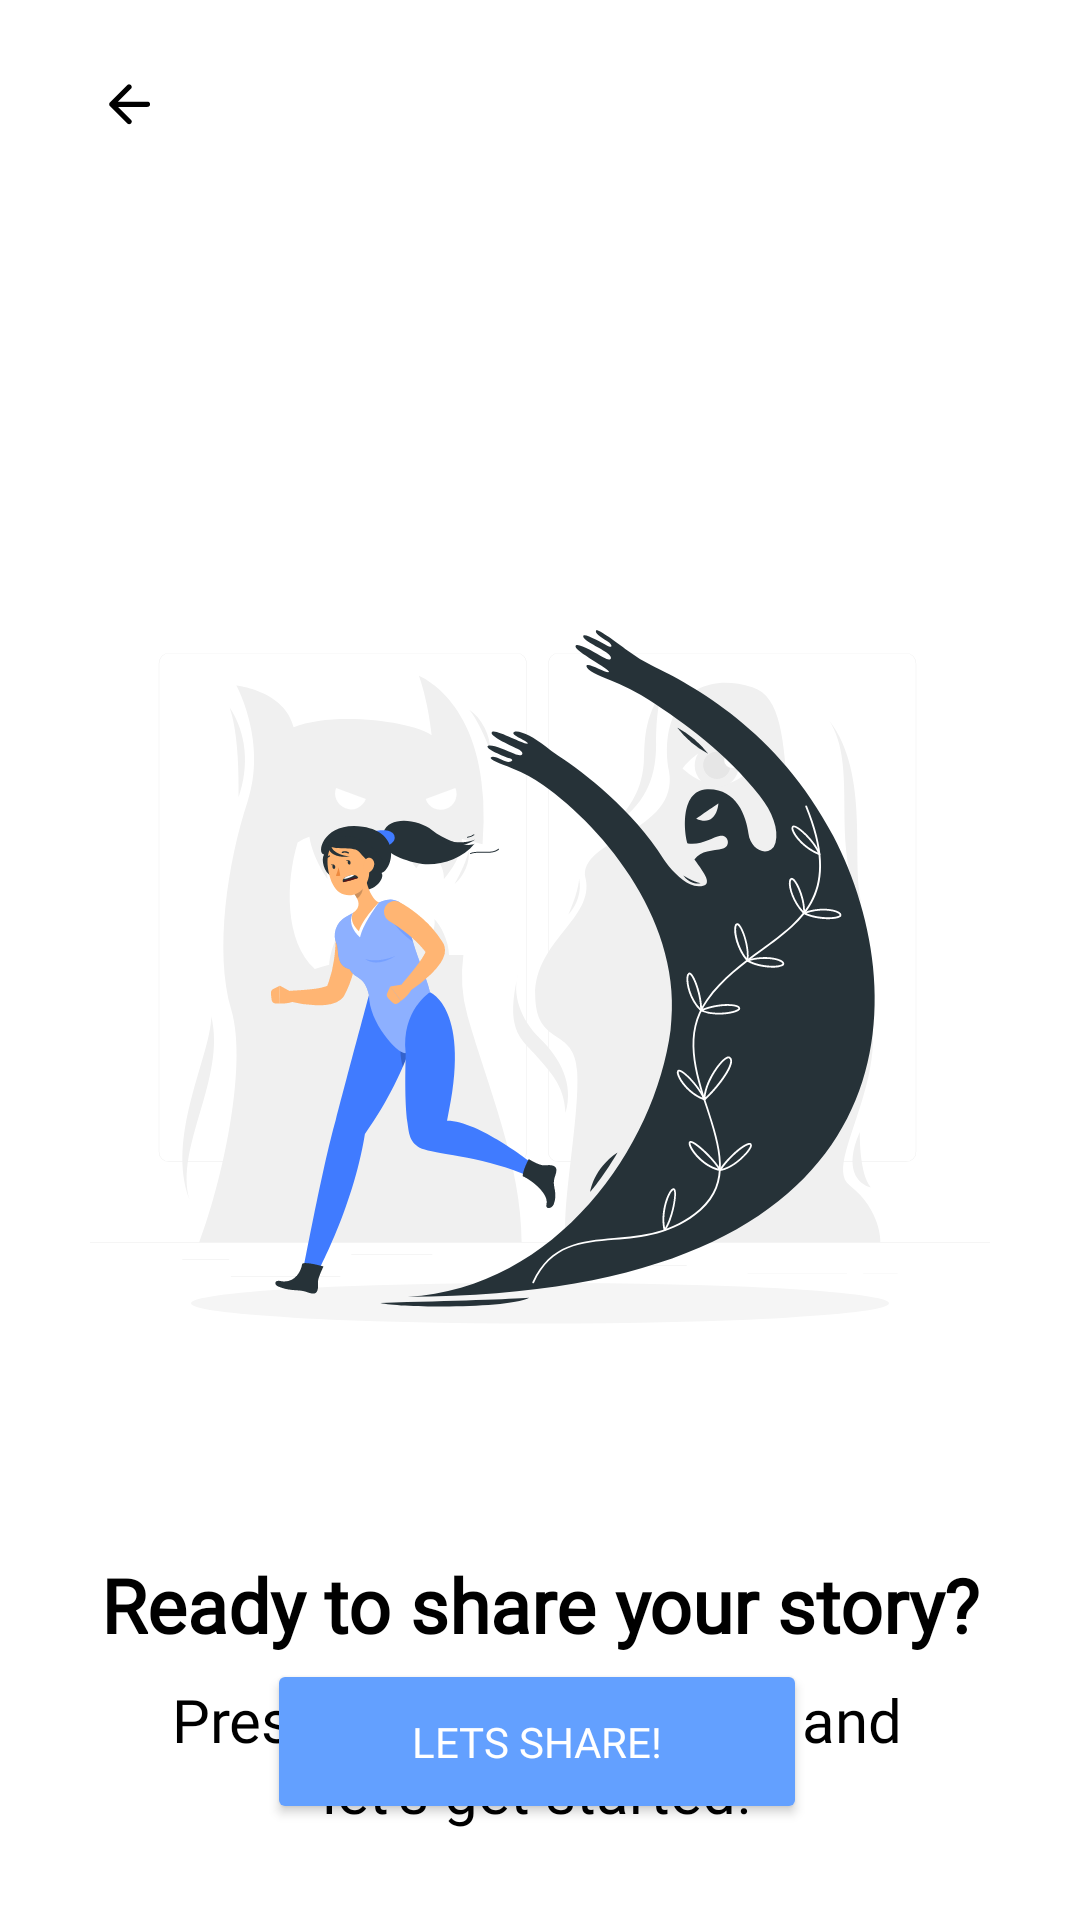

Point at icon controls on the screen. Image size 1080*1920, points as (x=x, y=y).
back: (x=129, y=104)
